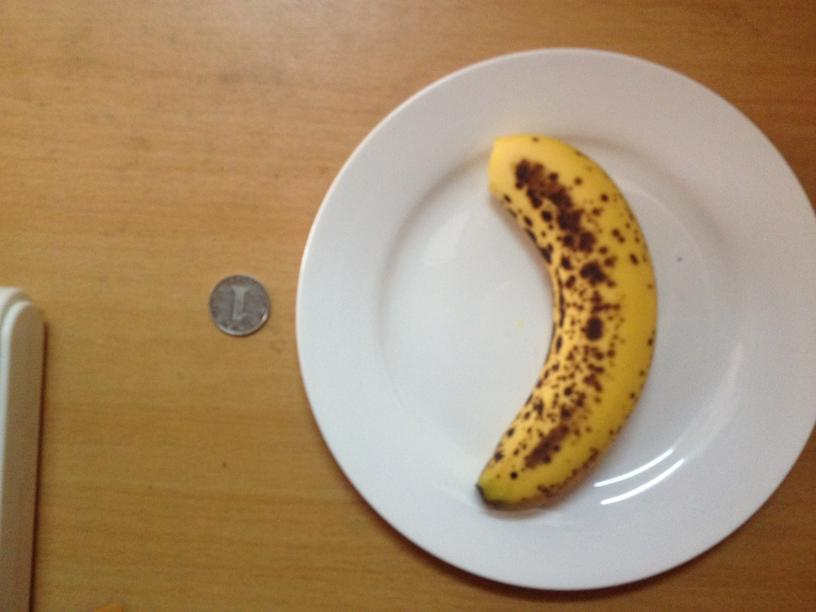banana: (470, 132, 658, 506)
coin: (205, 274, 271, 336)
